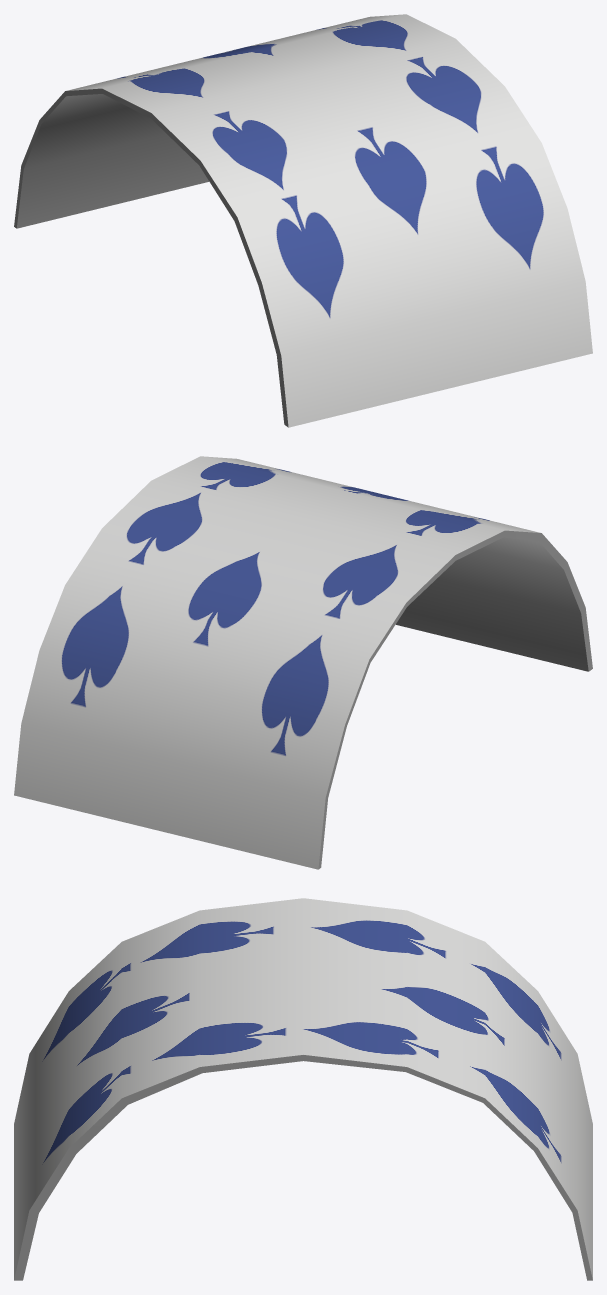
The model's file is Trump_s10.fbx.
The picture shows the model from 3 angles, top to bottom: view 1: azimuth 30°, elevation 25°; view 2: azimuth 150°, elevation 25°; view 3: azimuth 270°, elevation 25°; orthographic projection. The views are drawn at different scales.
Parts seen in each view (by area): view 1: pCube4; view 2: pCube4; view 3: pCube4.
Boxes of the visible parts, x1,y1,x2,y2 form: pCube4: (14,14,592,427); pCube4: (14,456,592,869); pCube4: (14,898,592,1280).
Size of the model in its own units: 915 by 613 by 1424.
